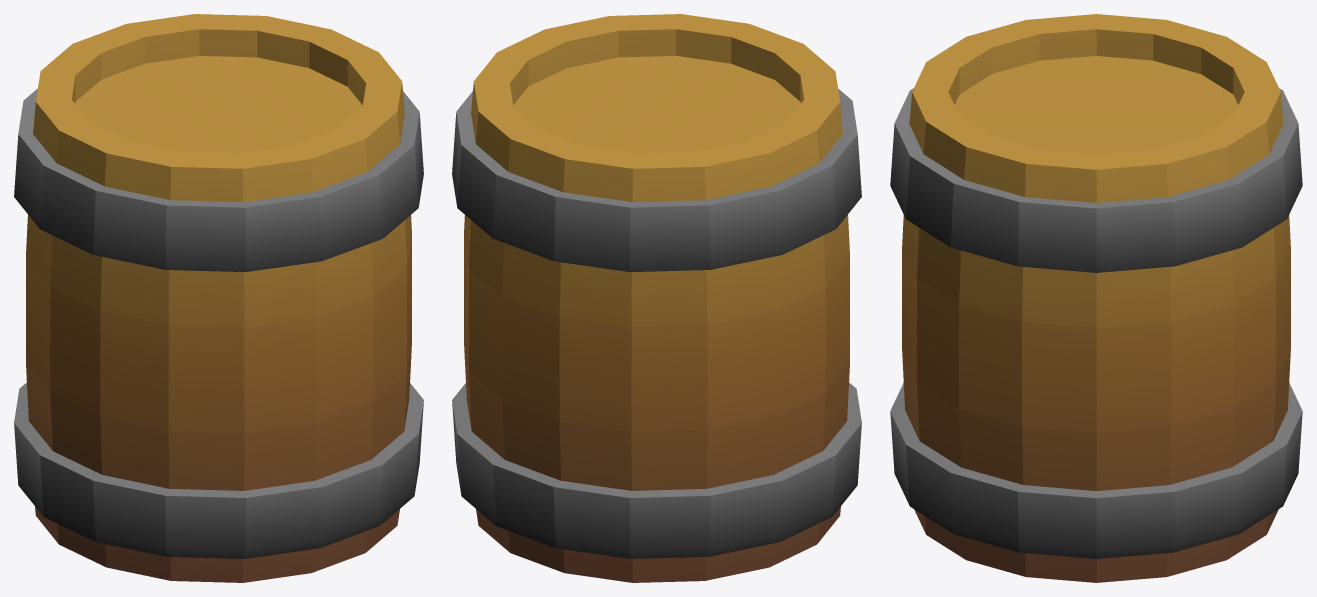
Rendered from barrel.obj.
3 views of the same model, side by side, from view 1: azimuth 30°, elevation 25°; view 2: azimuth 150°, elevation 25°; view 3: azimuth 270°, elevation 25° (orthographic).
Parts seen in each view (by area): view 1: barrel_sm; view 2: barrel_sm; view 3: barrel_sm.
Part boxes in pixels (<box>): barrel_sm: <box>14,14,423,582</box>; barrel_sm: <box>452,14,861,582</box>; barrel_sm: <box>890,14,1302,582</box>.
Bounding box in the file's own units: 0.8808 × 0.9736 × 0.8808.
